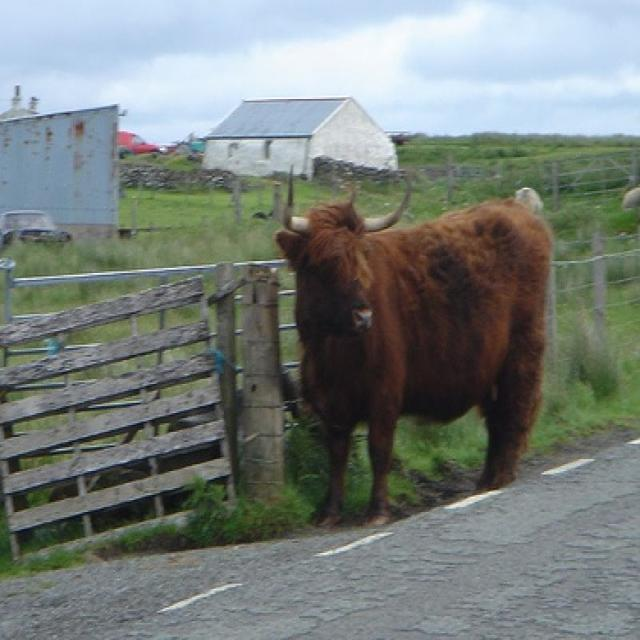cow: (275, 164, 552, 531)
